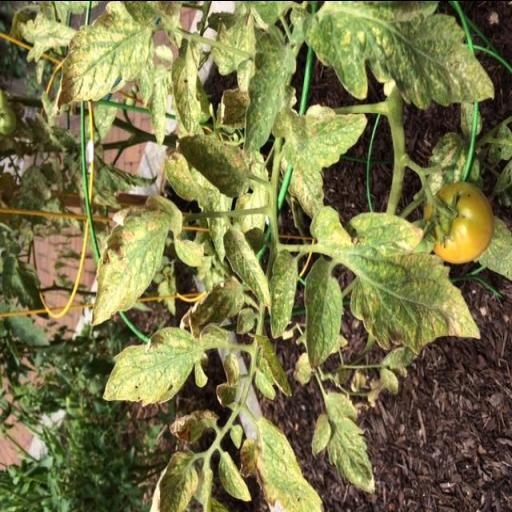Spider Mites: (308, 202, 482, 352), (300, 0, 497, 110), (88, 189, 186, 327), (55, 0, 159, 110), (100, 324, 207, 406), (239, 28, 298, 157), (271, 102, 367, 176), (310, 388, 376, 492), (173, 130, 253, 198), (220, 222, 272, 310), (306, 256, 344, 374), (268, 247, 302, 339)
